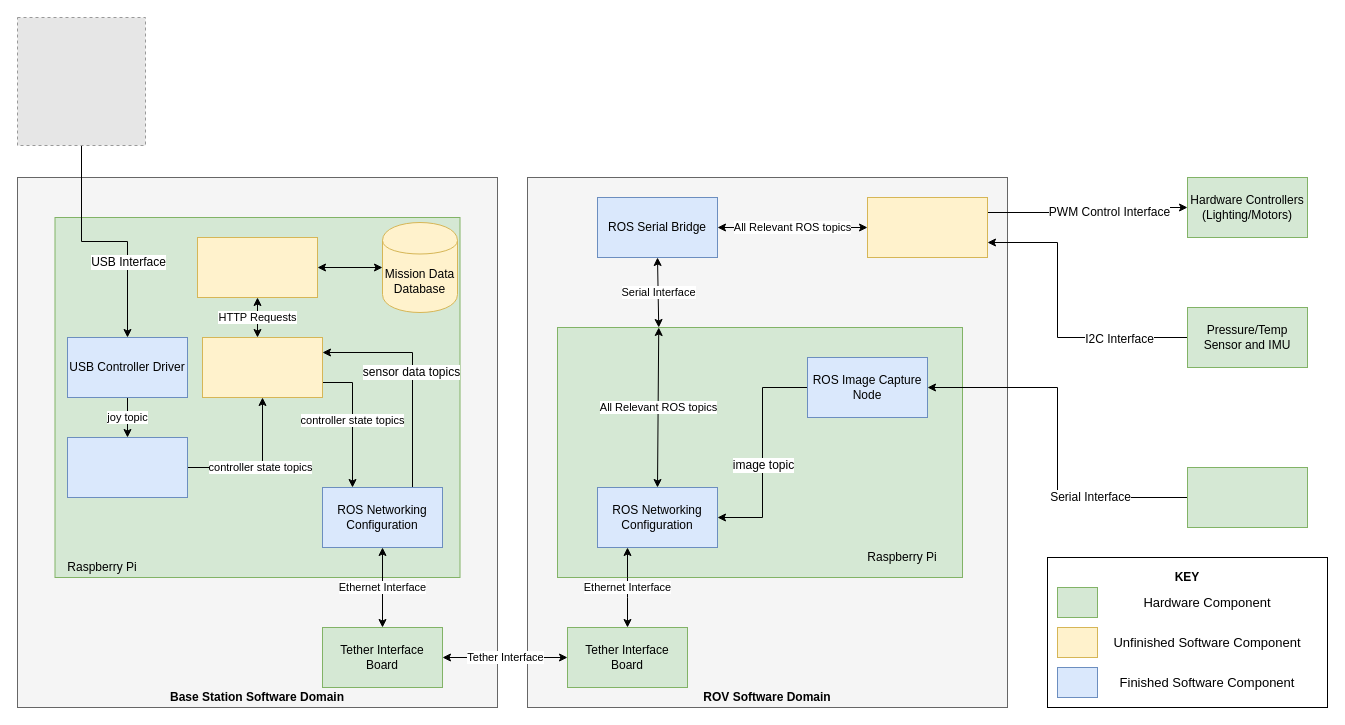
Image size: 1345x725. Some labels were removed from this diagram. Grey dashed boxes stand in for pictures. The centre of each missing label's shape, as x and y in pixels:
Controller State Manager: pixel 127 467
HUD Backend Flask App: pixel 262 367
HUD Front End: pixel 257 267
microcontroller firmware: pixel 927 227
USB Webcam: pixel 1247 497
